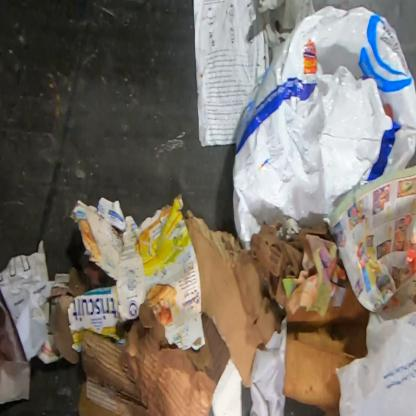cardboard: (66, 192, 206, 352), (183, 208, 287, 388), (77, 299, 231, 415), (282, 278, 369, 415), (251, 218, 332, 315)
soft_plastic: (231, 4, 415, 252), (333, 309, 415, 415)
